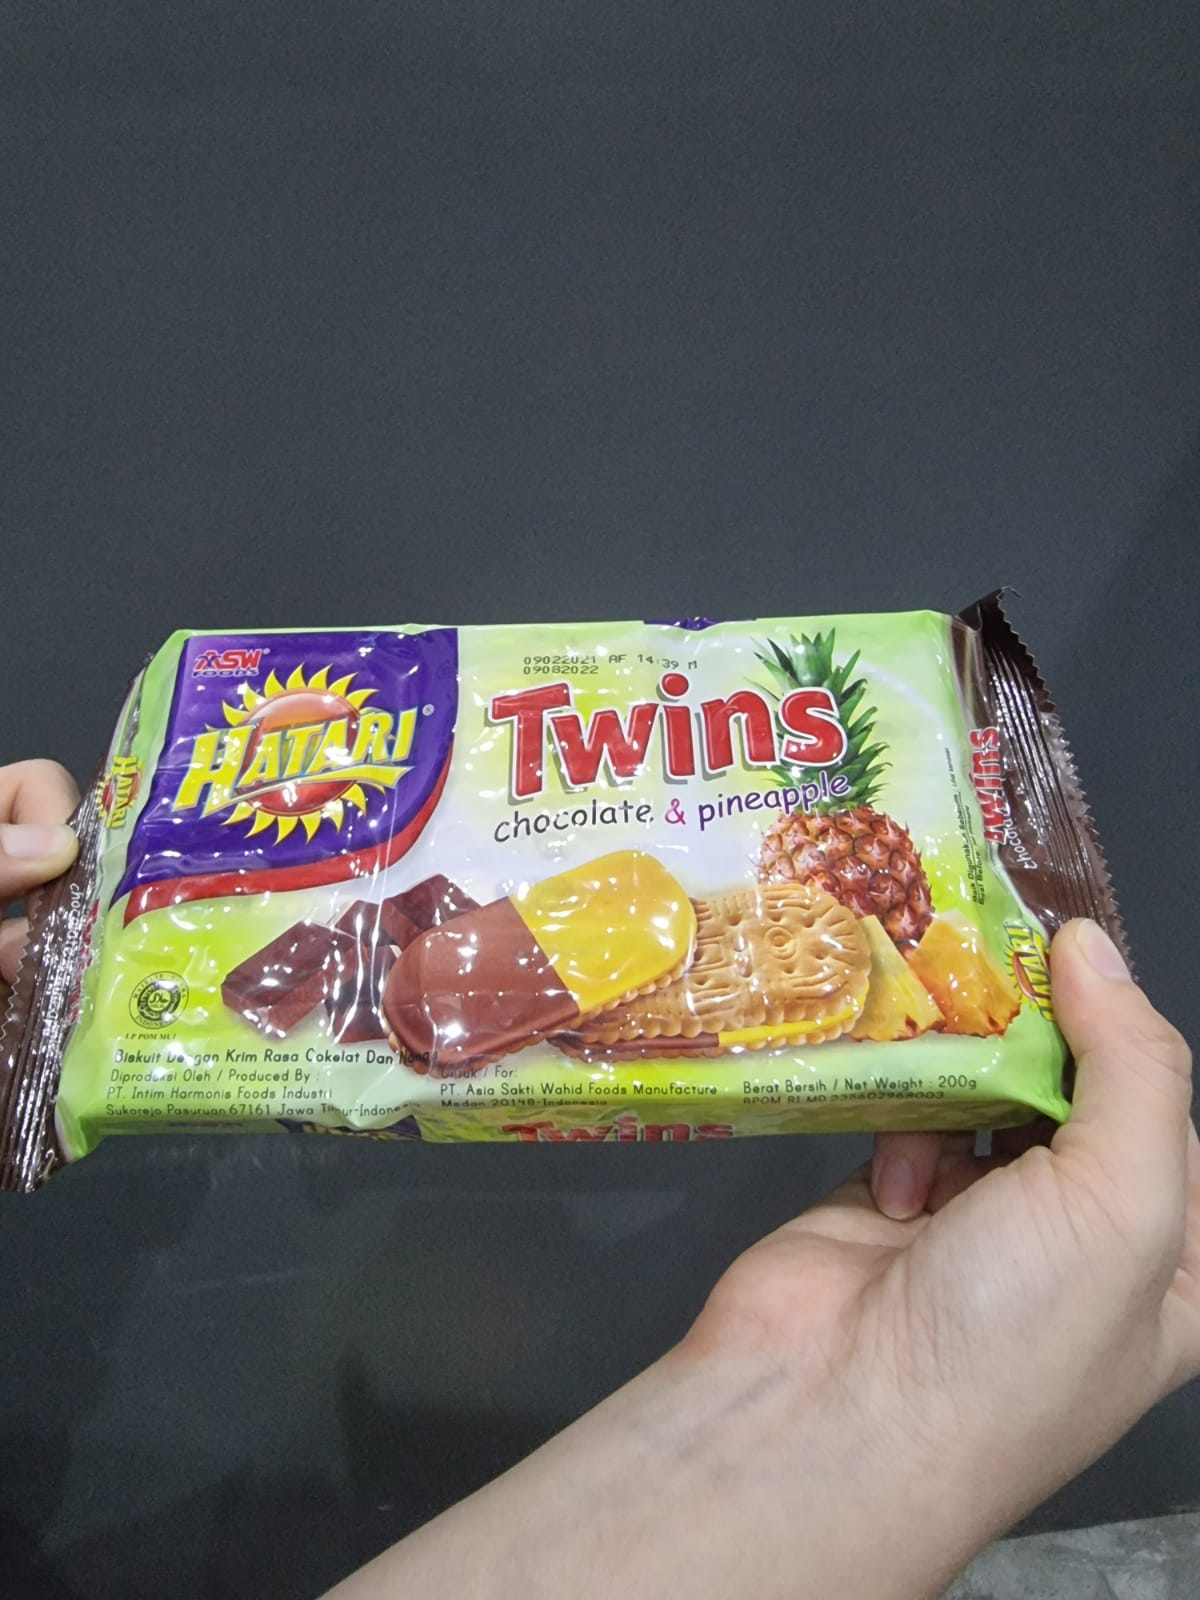Biscuits: (139, 643, 1021, 1095)
